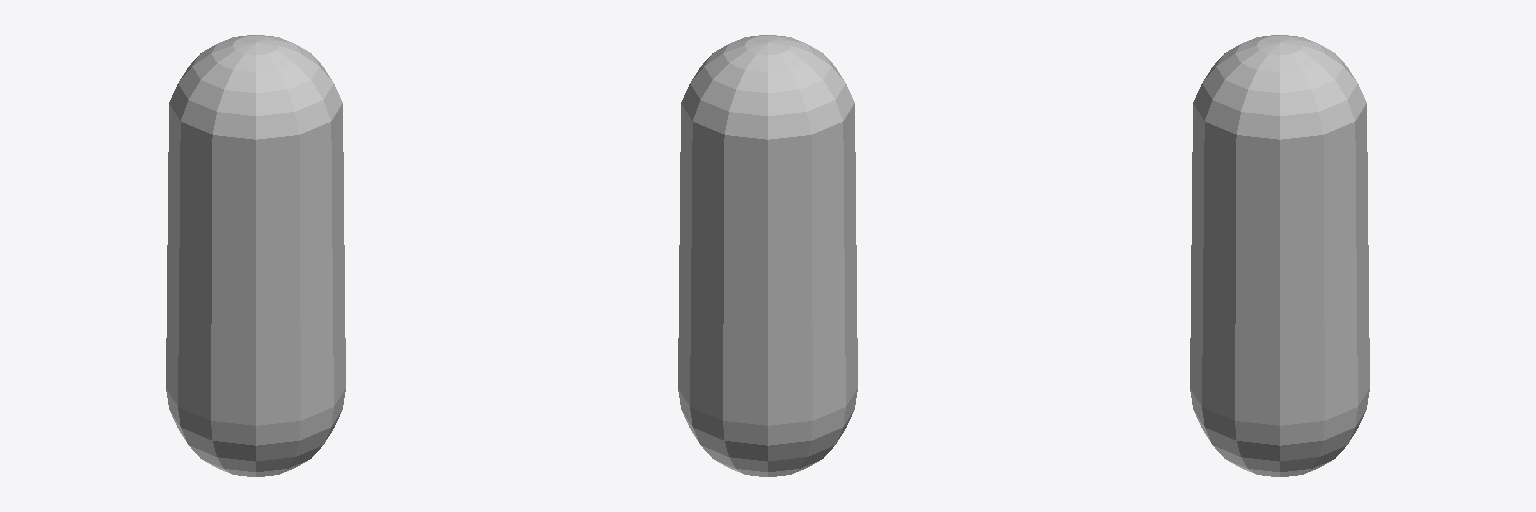
File: Player.obj
3 views of the same model, side by side, from view 1: azimuth 30°, elevation 25°; view 2: azimuth 150°, elevation 25°; view 3: azimuth 270°, elevation 25° (orthographic).
Parts seen in each view (by area): view 1: pSphere1; view 2: pSphere1; view 3: pSphere1.
Boxes of the visible parts, x1,y1,x2,y2 form: pSphere1: [166, 35, 345, 476]; pSphere1: [678, 35, 857, 476]; pSphere1: [1190, 35, 1369, 476].
Bounding box in the file's own units: 2.83 × 7.4 × 2.83.